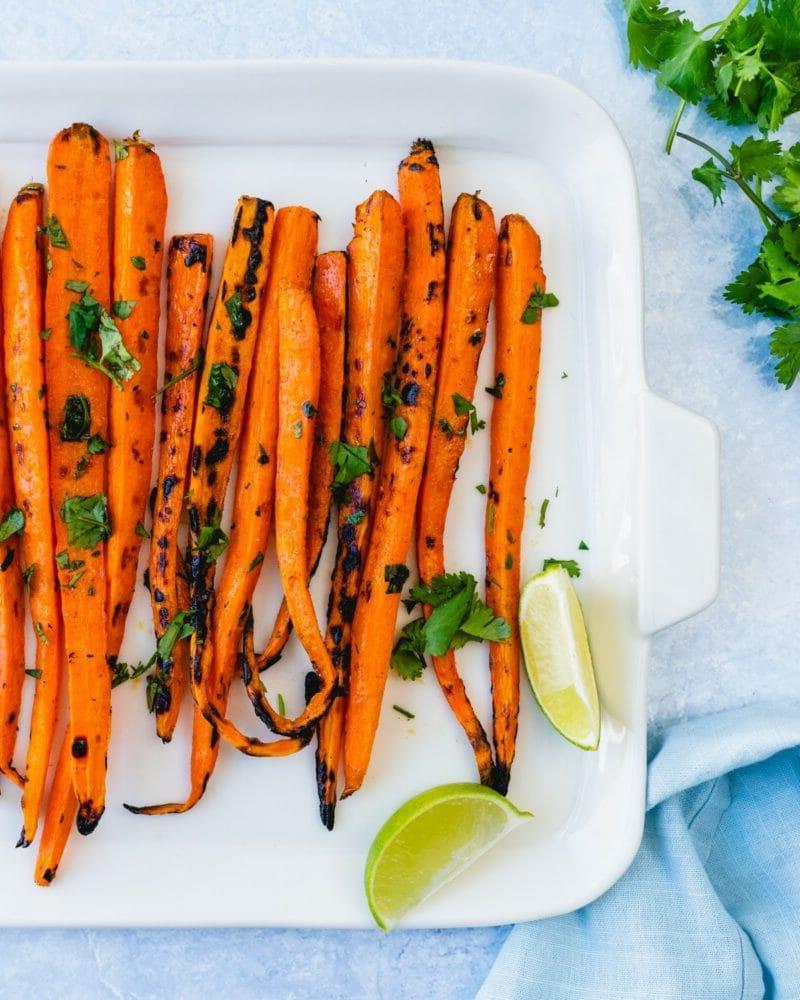carrot: (23, 129, 532, 846)
